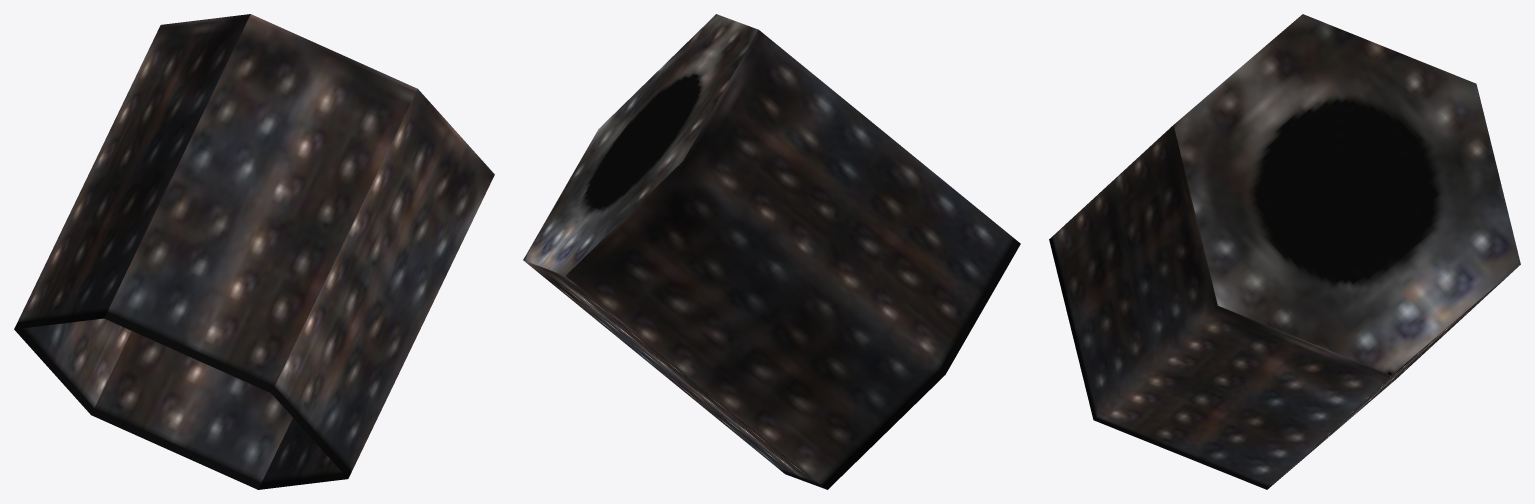
3 views of the same model, side by side, from view 1: azimuth 30°, elevation 25°; view 2: azimuth 150°, elevation 25°; view 3: azimuth 270°, elevation 25° (orthographic). The views are drawn at different scales.
Visible parts, largest first — view 1: Cy13; view 2: Cy13; view 3: Cy13.
Part boxes in pixels (<box>): Cy13: <box>14,14,494,489</box>; Cy13: <box>523,14,1020,489</box>; Cy13: <box>1049,14,1520,489</box>.
Size of the model in its own units: 10.42 by 11.02 by 9.8.
